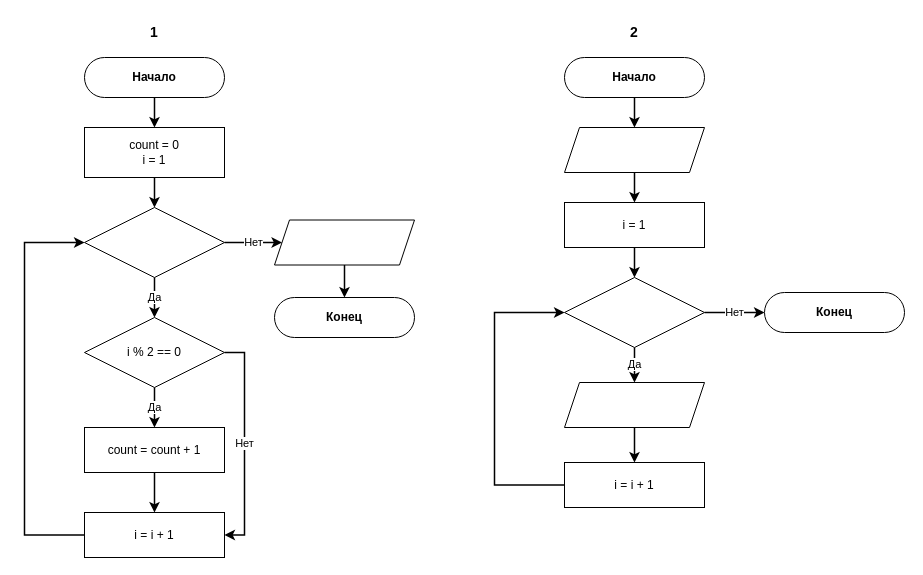
Image size: 923x575. Some labels were removed from this diagram. Here are the shapes that lost their labels. From the top down, the centre of each, then its label:
the point at 634,149: Ввод k
the point at 154,242: i <= 100
the point at 344,242: Вывод count
the point at 634,312: i <= 10
the point at 634,405: Вывод k * i
